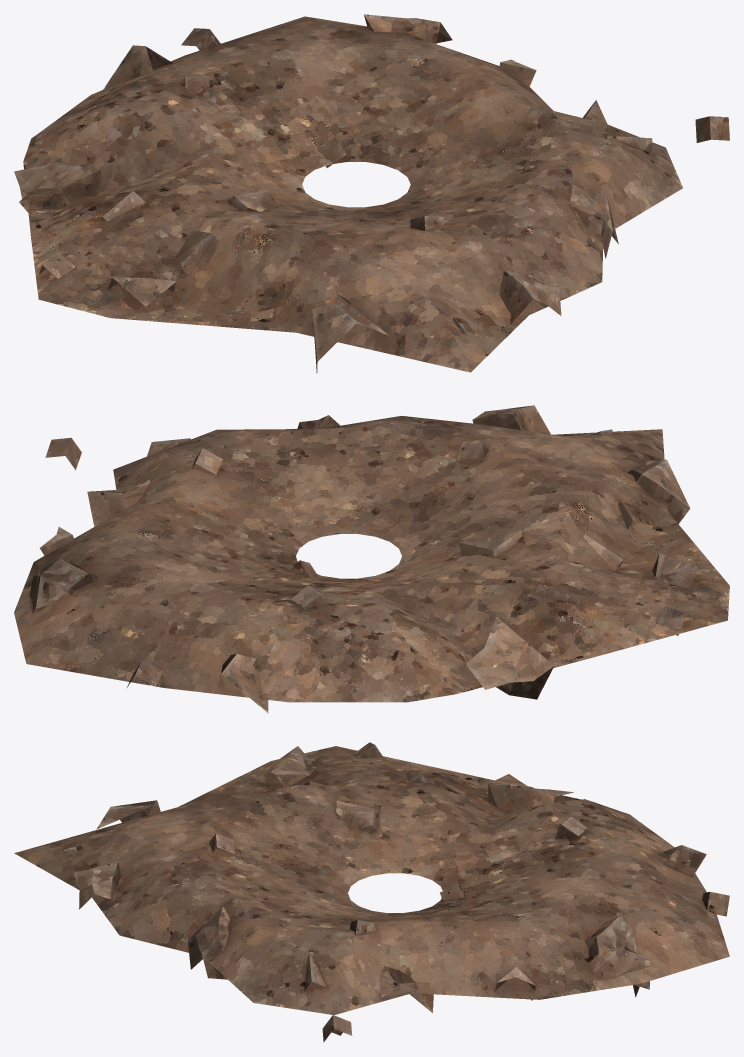
File: Socabon.fbx
The picture shows the model from 3 angles, top to bottom: view 1: azimuth 30°, elevation 25°; view 2: azimuth 150°, elevation 25°; view 3: azimuth 270°, elevation 25°; orthographic projection. The views are drawn at different scales.
Parts seen in each view (by area): view 1: Socabon; view 2: Socabon; view 3: Socabon.
Part boxes in pixels (box(x1,y1,x2,y2)): Socabon: box(14, 14, 729, 373); Socabon: box(14, 405, 729, 713); Socabon: box(14, 742, 729, 1042).
Size of the model in its own units: 2505 by 371 by 2559.
